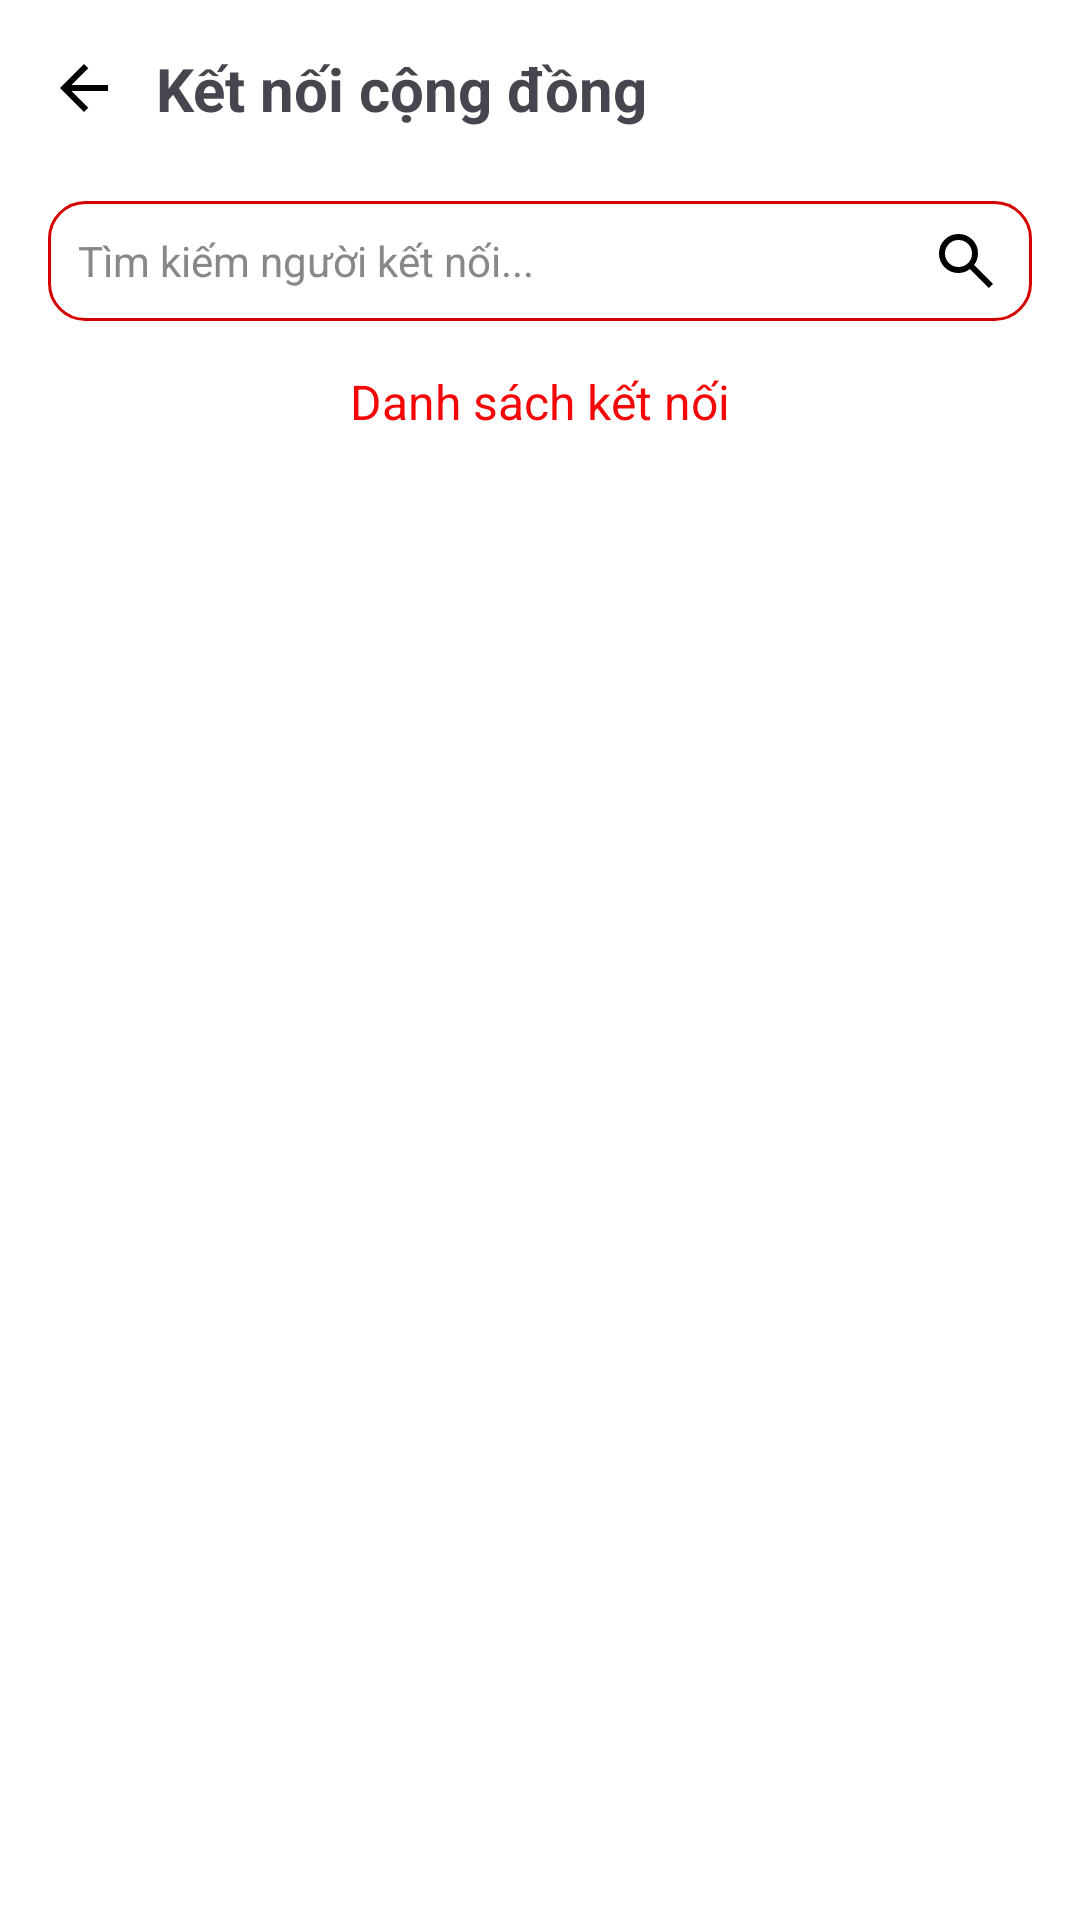

Point at icon controls on the screen. Image size 1080px×1920px, points as (x=x, y=y).
arrow back: (x=84, y=88)
